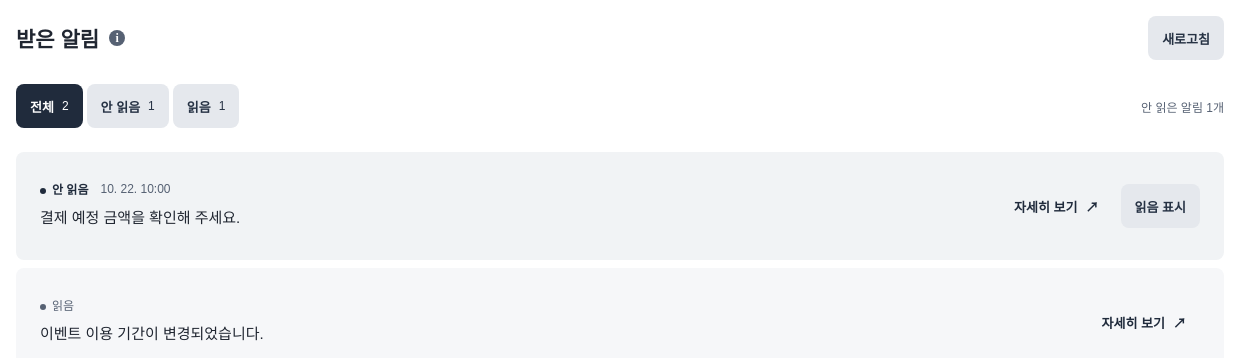
Scenario: personal workspace notices › marks an unread notice after server confirmation and refreshes its count
Click the button "읽음 표시" at [1160, 206], box [1120, 184, 1200, 228]
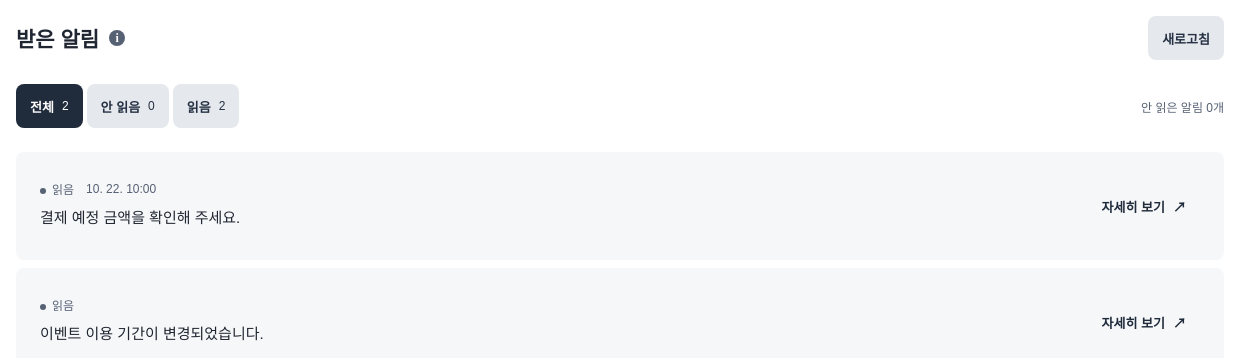
Check: the text "안 읽은 알림 0개" is shown, box [1141, 98, 1224, 114]
Check: the button "읽음 표시" is gone
